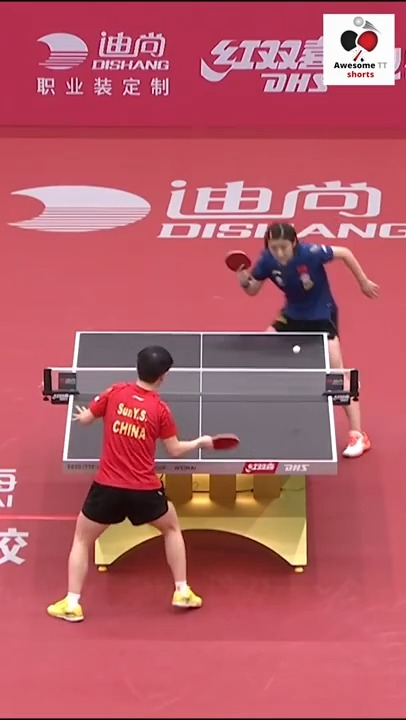Ball: (292, 343, 302, 358)
